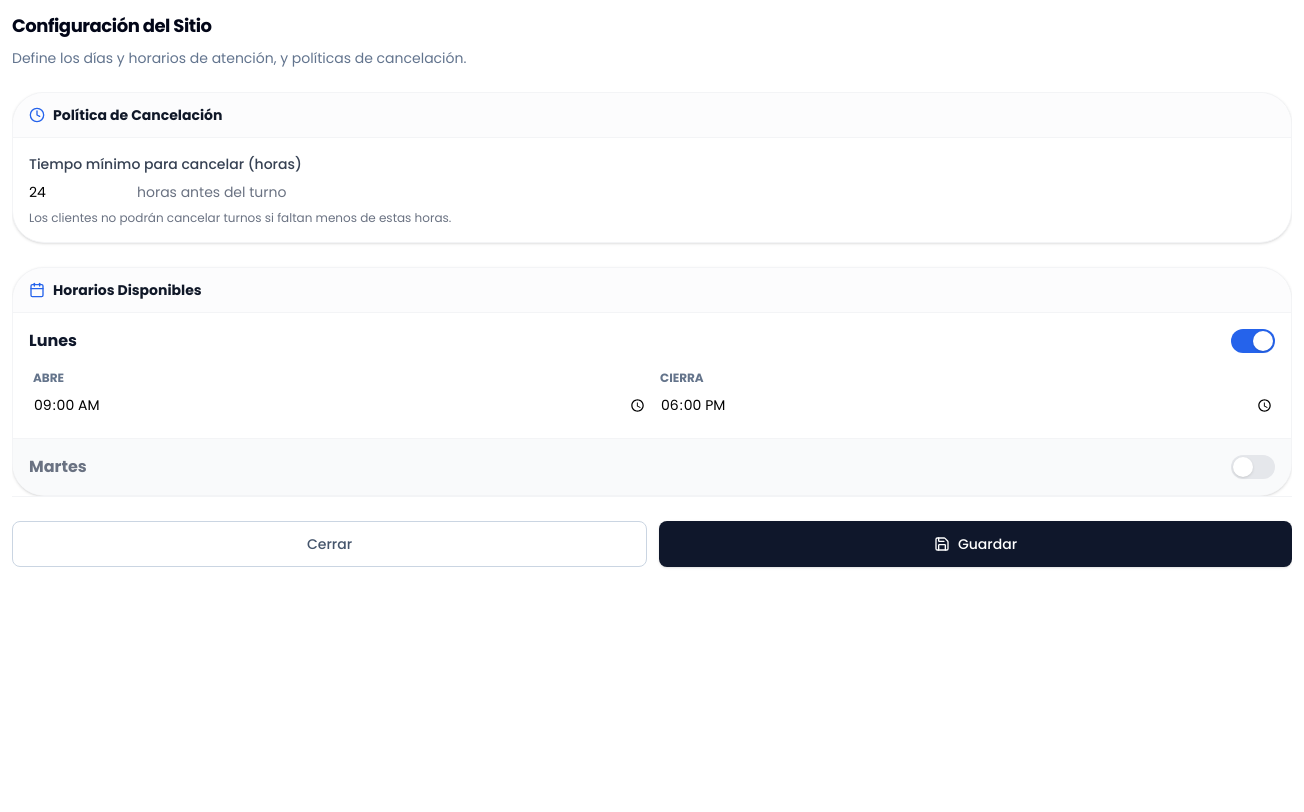
Test: SettingsSidebar › handles save failure in business hours
Step 1. Click the button "Guardar" → coordinates (976, 544), box [659,521,1292,567]
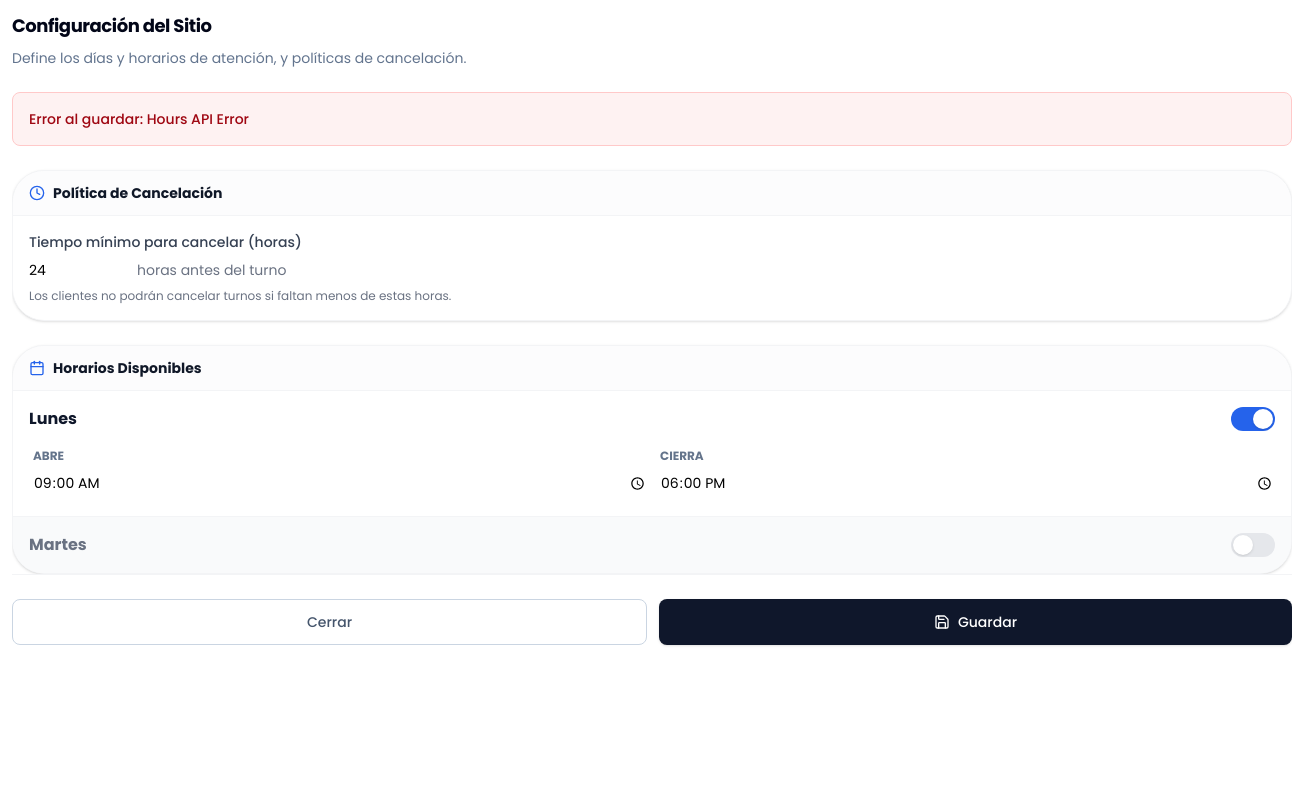
Result: the text "Error al guardar: Hours API Error" is shown at [12,92,1292,146]
